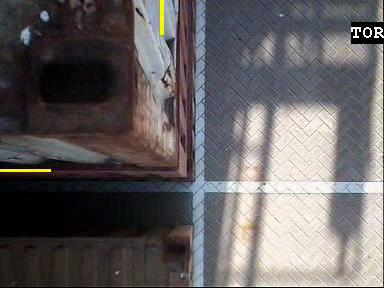groundmarker_2: (200, 168, 232, 211), (203, 1, 231, 29)
